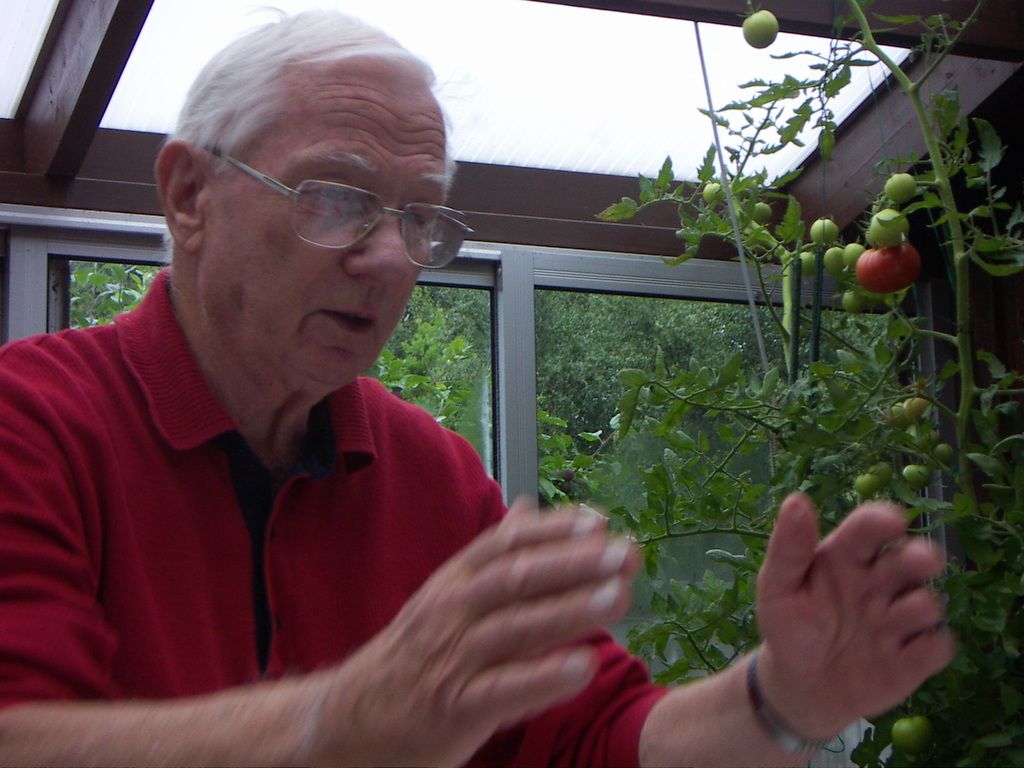Tomato: (855, 241, 921, 298)
